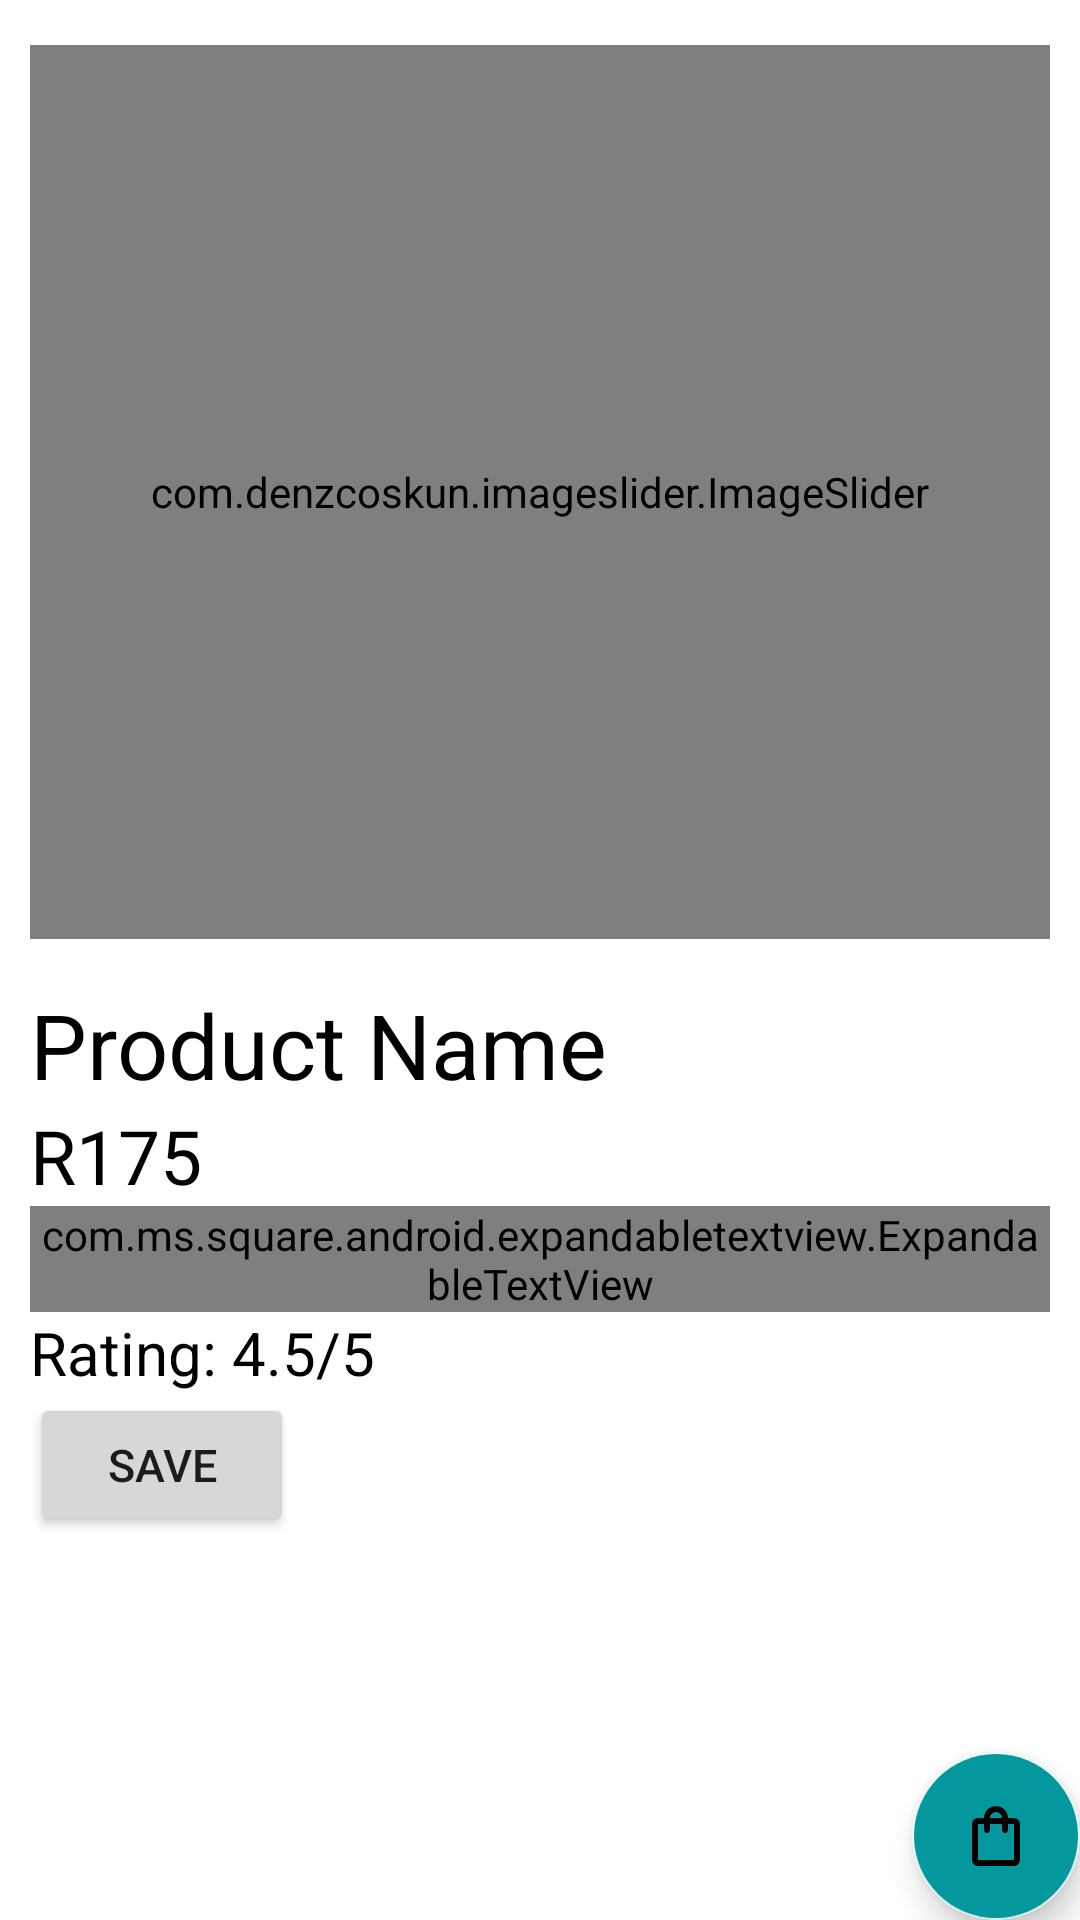

Screen size 1080 × 1920. Icon name, then its box in pixels as (x1, y1, x2, y2):
shopping bag: (914, 1754, 1080, 1920)
